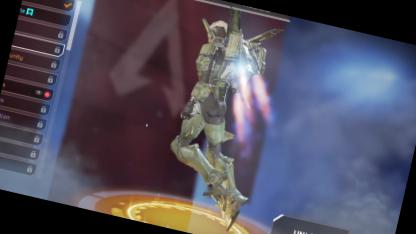Target: (158, 8, 281, 196)
